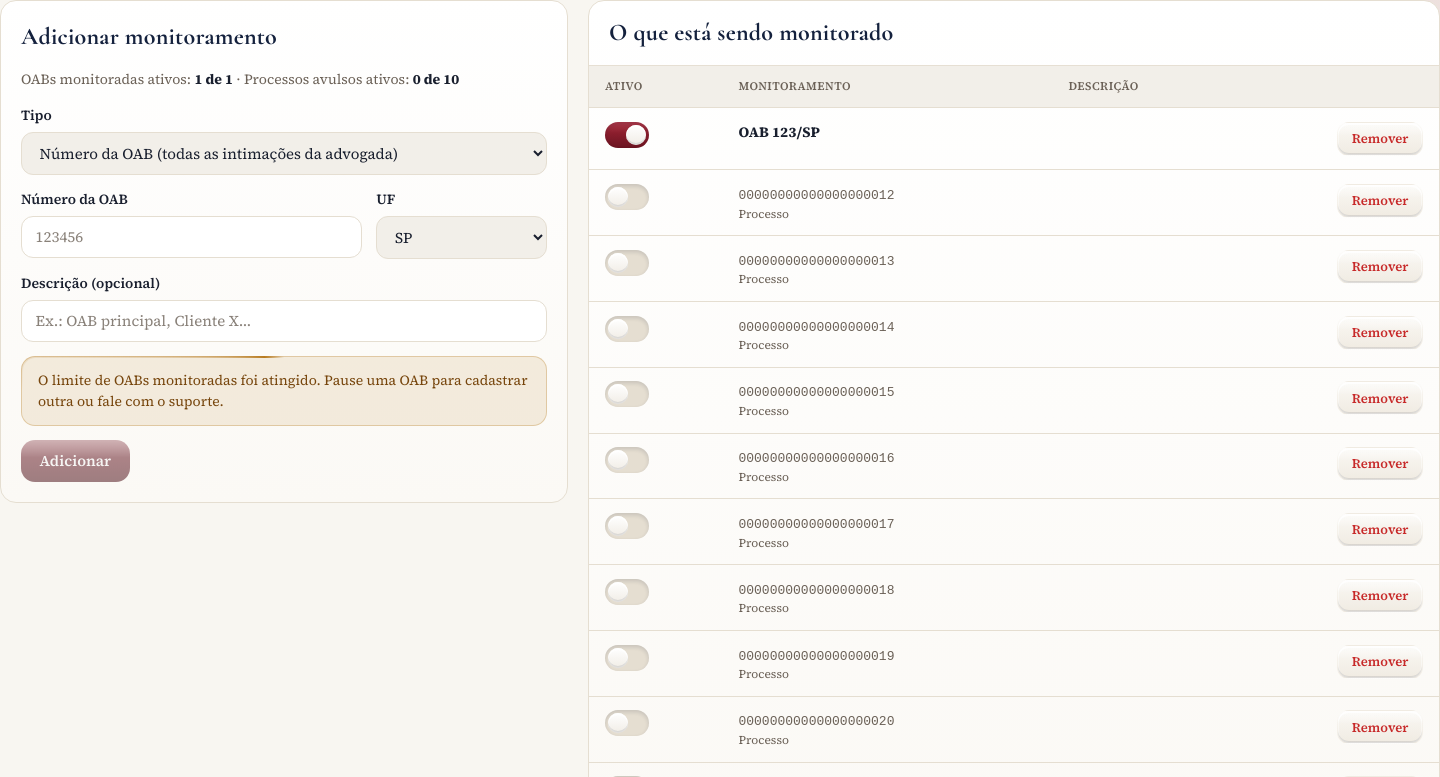
Scenario: tela de Monitoramento com limites do plano › processo pausado não conta para o limite
Select "Processo específico" in the dropdown labelled "Tipo" at (284,154), box [21,132,547,175]
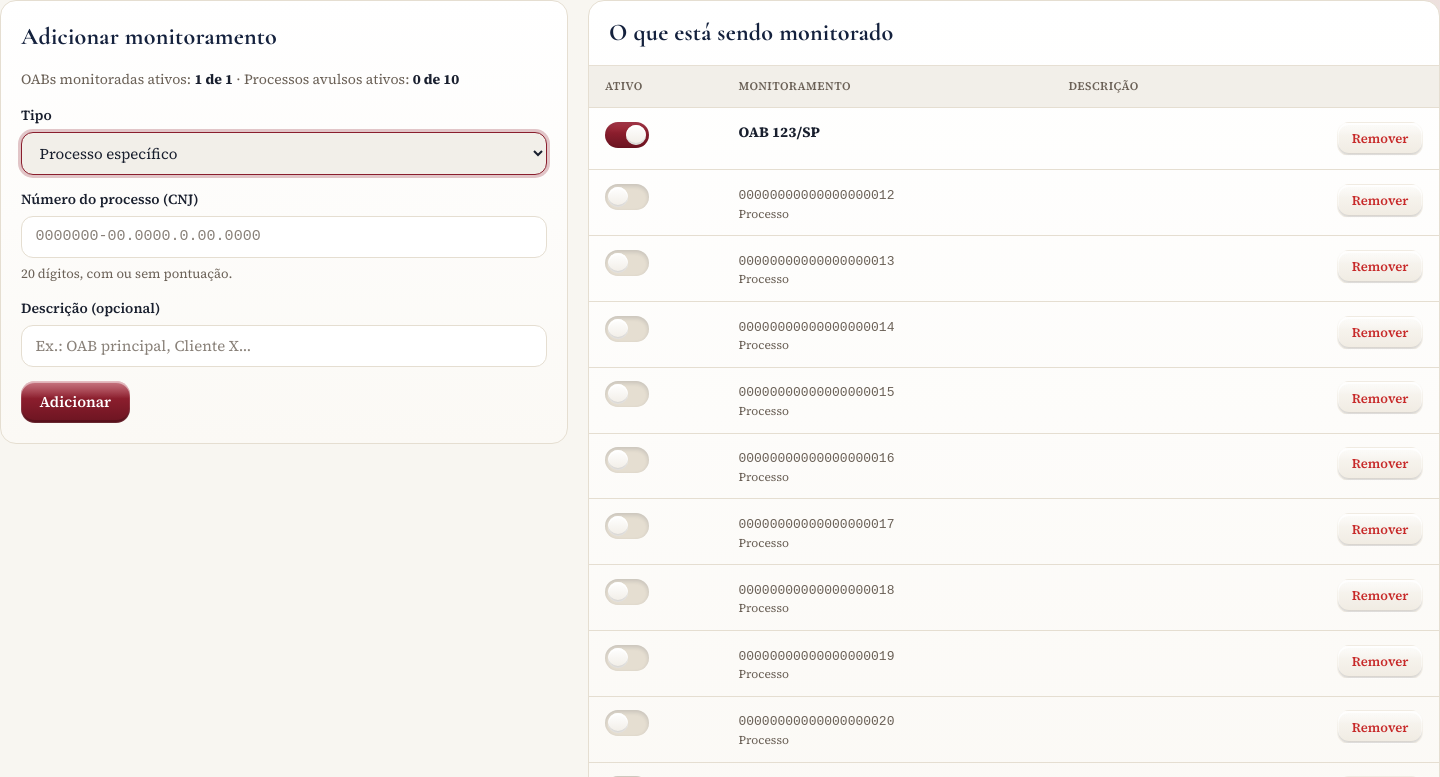
Result: the button "Adicionar" is enabled at [21,381,130,423]
